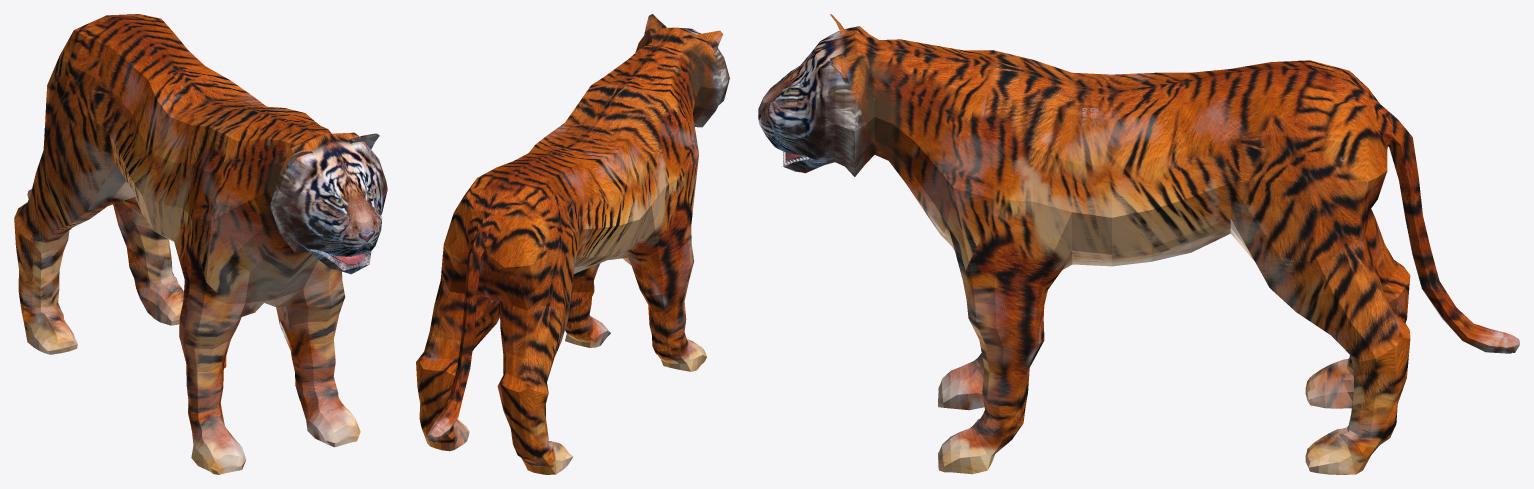
Rendered from Sumatran Tiger.fbx.
The picture shows the model from 3 angles, left to right: view 1: azimuth 30°, elevation 25°; view 2: azimuth 150°, elevation 25°; view 3: azimuth 270°, elevation 25°; orthographic projection. The views are drawn at different scales.
Parts seen in each view (by area): view 1: Cube; view 2: Cube; view 3: Cube.
Part boxes in pixels (x1,y1,x2,y2): Cube: [14, 14, 387, 474]; Cube: [416, 14, 729, 474]; Cube: [758, 14, 1519, 474].
Bounding box in the file's own units: 118 × 252 × 438.
1 material, 1 textured.
